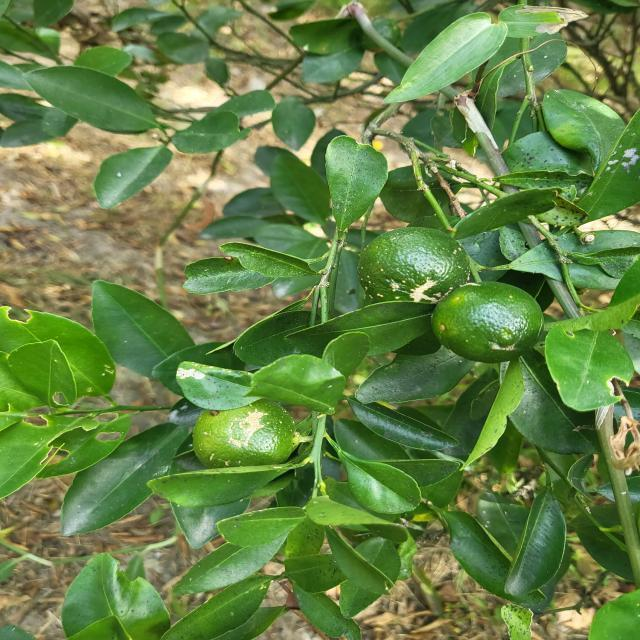thrips: (357, 230, 478, 309), (432, 274, 536, 363), (183, 396, 307, 466)
